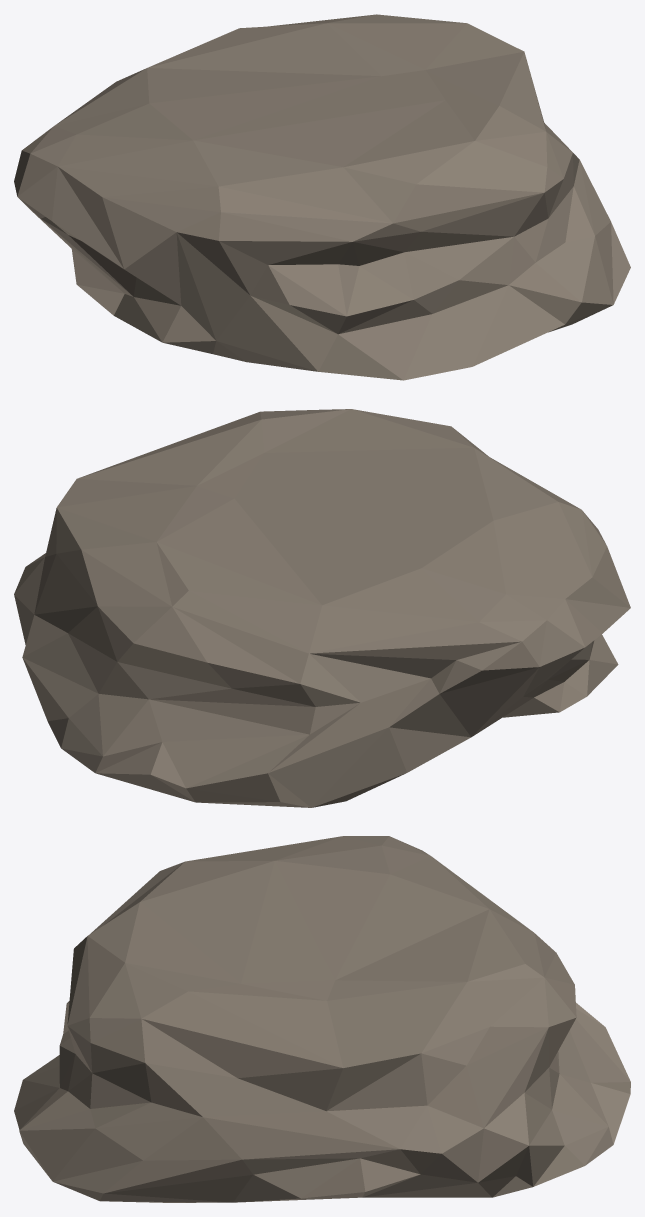
File: SM_Env_Rock_05.glb
The picture shows the model from 3 angles, top to bottom: view 1: azimuth 30°, elevation 25°; view 2: azimuth 150°, elevation 25°; view 3: azimuth 270°, elevation 25°; orthographic projection. The views are drawn at different scales.
Parts seen in each view (by area): view 1: SM_Env_Rock_05; view 2: SM_Env_Rock_05; view 3: SM_Env_Rock_05.
Boxes of the visible parts, x1,y1,x2,y2 form: SM_Env_Rock_05: (14, 14, 630, 380); SM_Env_Rock_05: (14, 409, 630, 807); SM_Env_Rock_05: (14, 836, 630, 1202).
Bounding box in the file's own units: 6.69 × 2.38 × 6.75.
Materials: 1 (1 with a texture image).
